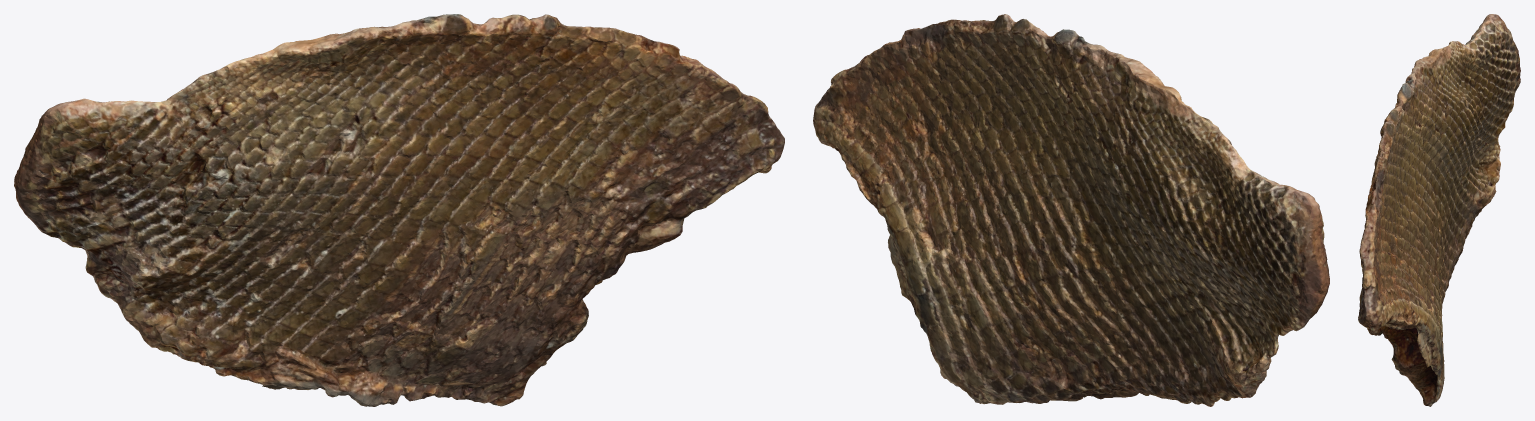
Rendered from 1-1_Fish_Scales.glb.
3 renders of one model, left to right at view 1: azimuth 30°, elevation 25°; view 2: azimuth 150°, elevation 25°; view 3: azimuth 270°, elevation 25°, orthographic. The views are drawn at different scales.
Visible parts, largest first — view 1: 3DModel; view 2: 3DModel; view 3: 3DModel.
Part boxes in pixels (x1,y1,x2,y2): 3DModel: [14, 14, 784, 406]; 3DModel: [813, 14, 1329, 406]; 3DModel: [1358, 14, 1520, 406].
Bounding box in the file's own units: 0.7359 × 0.4412 × 0.2224.
1 material, 1 textured.
